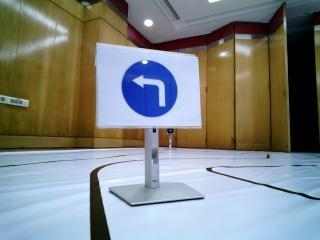left: (97, 51, 190, 127)
